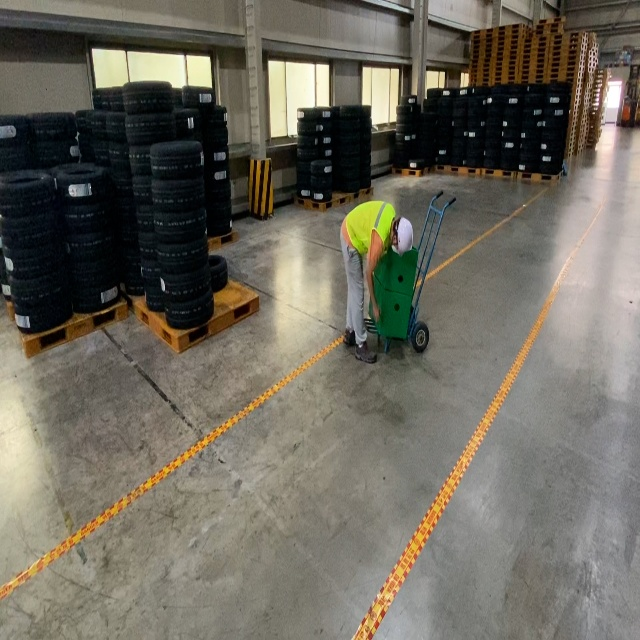Box: (369, 273, 413, 339), (374, 245, 419, 294)
Worker: (340, 200, 413, 363)
